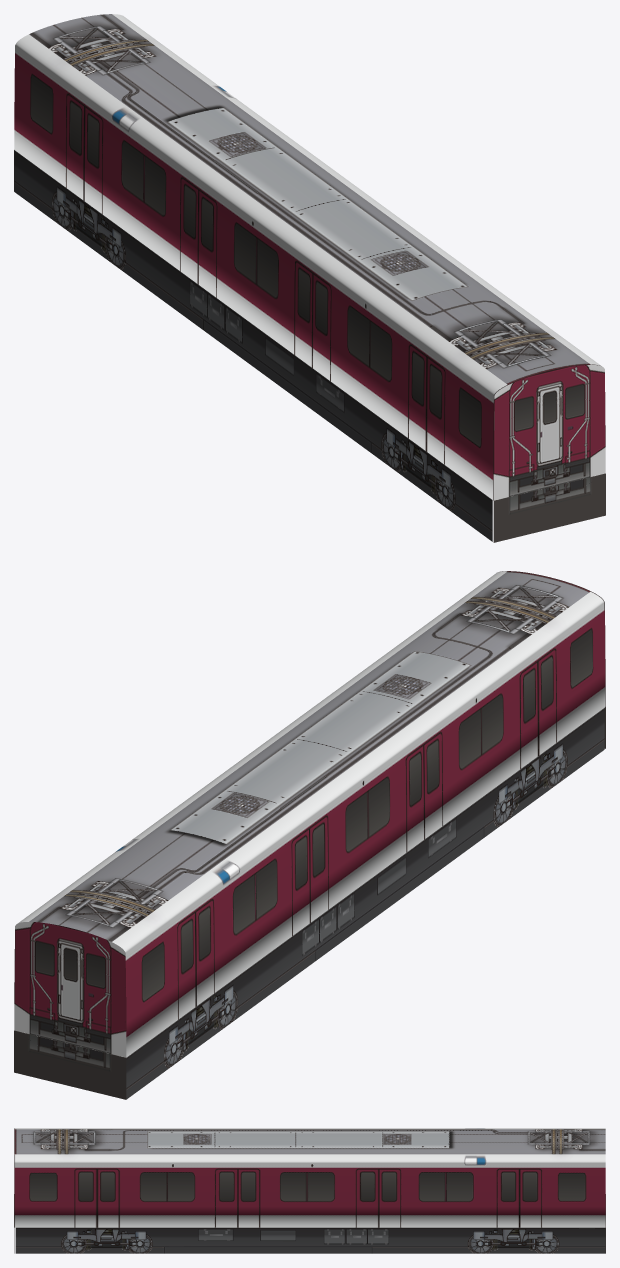
File: car3.glb
The picture shows the model from 3 angles, top to bottom: view 1: azimuth 30°, elevation 25°; view 2: azimuth 150°, elevation 25°; view 3: azimuth 270°, elevation 25°; orthographic projection. The views are drawn at different scales.
Visible parts, largest first — view 1: kintetsu-1620-car3; view 2: kintetsu-1620-car3; view 3: kintetsu-1620-car3.
Part boxes in pixels (x1,y1,x2,y2): kintetsu-1620-car3: [14, 14, 605, 542]; kintetsu-1620-car3: [14, 571, 605, 1099]; kintetsu-1620-car3: [14, 1128, 605, 1253].
Size of the model in its own units: 2.8 by 3.77 by 20.75.
8 materials, 7 textured.
